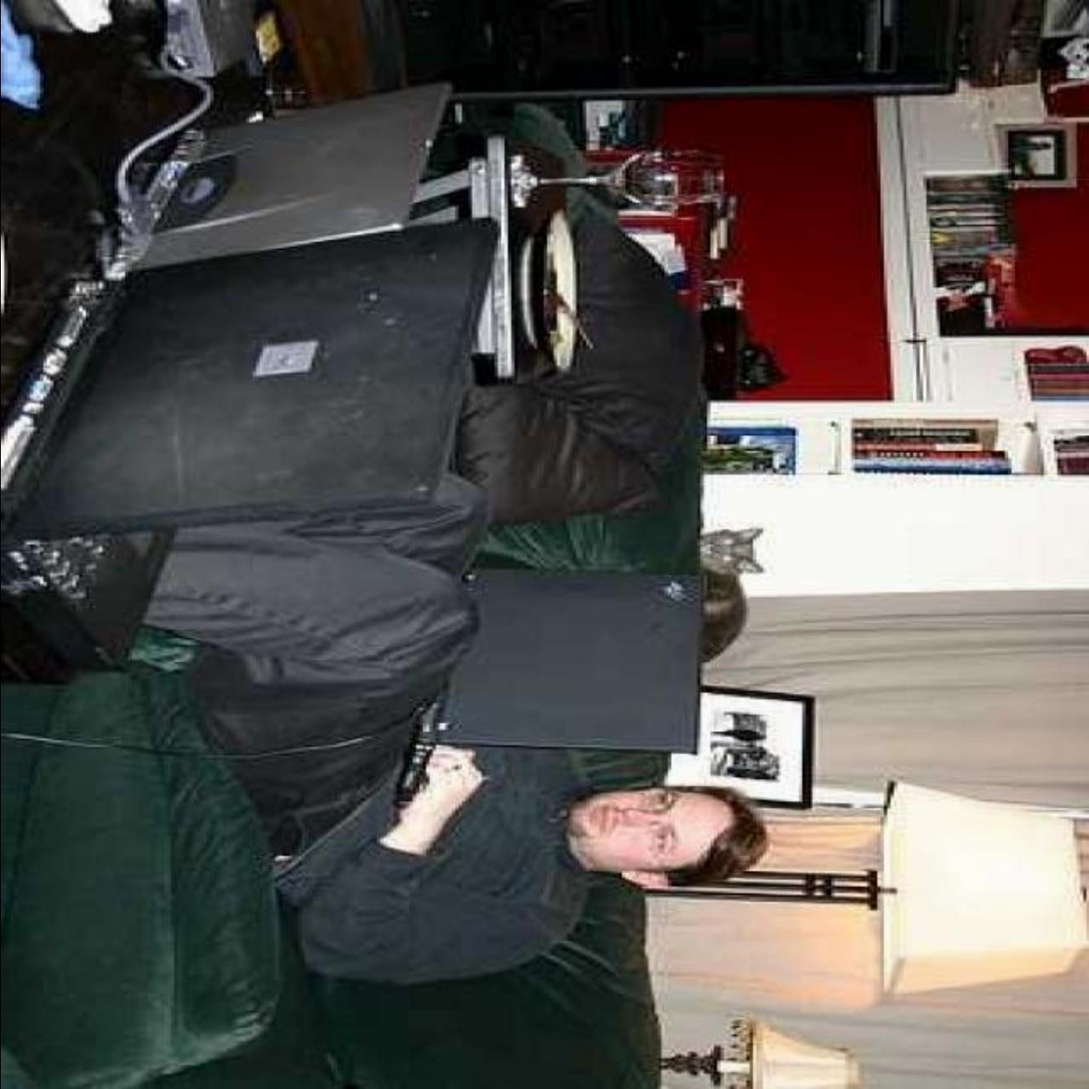laptop: (0, 87, 493, 601), (409, 569, 707, 799)
